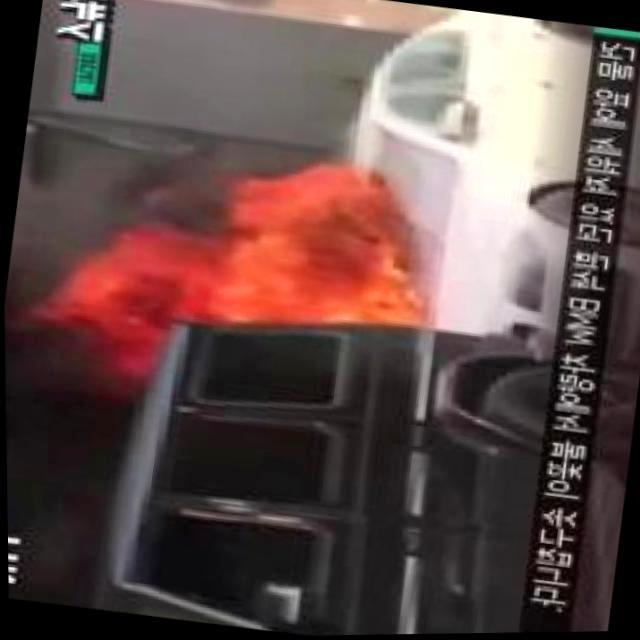fire: (70, 143, 433, 409)
